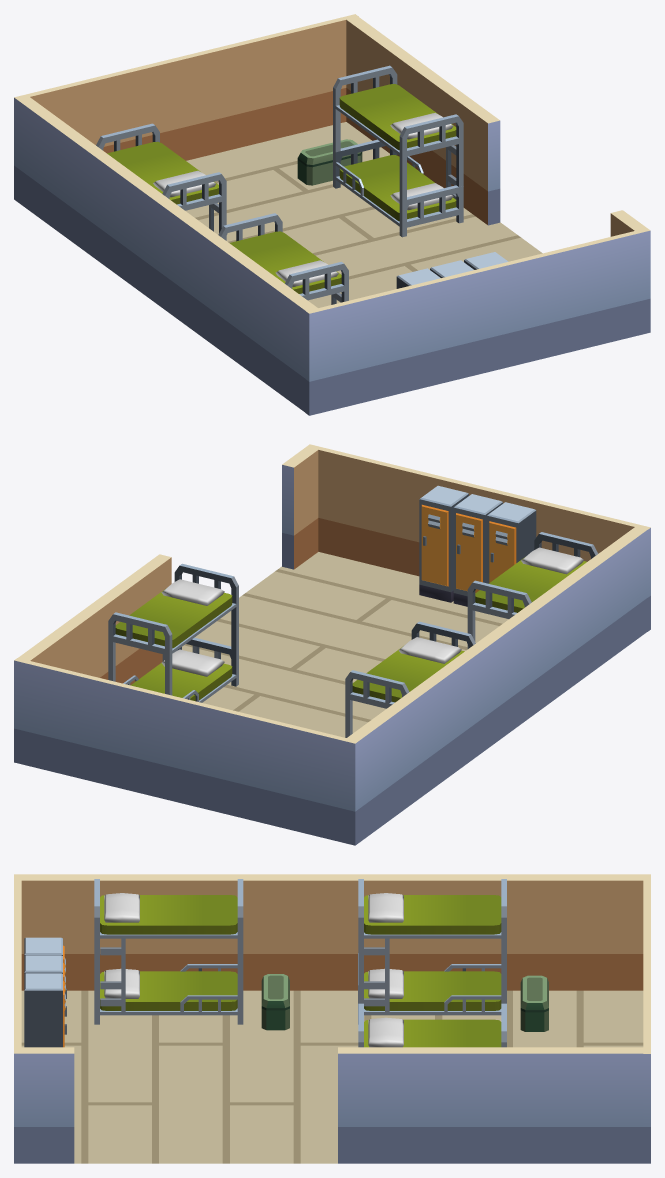
File: Barrack_Lv2_b_Left.fbx
3 renders of one model, top to bottom at view 1: azimuth 30°, elevation 25°; view 2: azimuth 150°, elevation 25°; view 3: azimuth 270°, elevation 25°, orthographic. The views are drawn at different scales.
Visible parts, largest first — view 1: Barrack_Lv2_b_Left8, Barrack_Lv2_b_Left15, Barrack_Lv2_b_Left12, Barrack_Lv2_b_Left11, Barrack_Lv2_b_Left4, Barrack_Lv2_b_Left6, Barrack_Lv2_b_Left10, Barrack_Lv2_b_Left1, Barrack_Lv2_b_Left17, Barrack_Lv2_b_Left5; view 2: Barrack_Lv2_b_Left12, Barrack_Lv2_b_Left15, Barrack_Lv2_b_Left11, Barrack_Lv2_b_Left8, Barrack_Lv2_b_Left4, Barrack_Lv2_b_Left6, Barrack_Lv2_b_Left10, Barrack_Lv2_b_Left1, Barrack_Lv2_b_Left17, Barrack_Lv2_b_Left16, Barrack_Lv2_b_Left9, Barrack_Lv2_b_Left7; view 3: Barrack_Lv2_b_Left11, Barrack_Lv2_b_Left15, Barrack_Lv2_b_Left6, Barrack_Lv2_b_Left1, Barrack_Lv2_b_Left10, Barrack_Lv2_b_Left17, Barrack_Lv2_b_Left4, Barrack_Lv2_b_Left16, Barrack_Lv2_b_Left12, Barrack_Lv2_b_Left13, Barrack_Lv2_b_Left14, Barrack_Lv2_b_Left8 (+2 smaller).
Boxes of the visible parts, x1=… form: Barrack_Lv2_b_Left8: x1=305, y1=231, x2=638, y2=415; Barrack_Lv2_b_Left15: x1=14, y1=94, x2=321, y2=412; Barrack_Lv2_b_Left12: x1=26, y1=14, x2=358, y2=160; Barrack_Lv2_b_Left11: x1=185, y1=122, x2=542, y2=307; Barrack_Lv2_b_Left4: x1=333, y1=65, x2=463, y2=237; Barrack_Lv2_b_Left6: x1=343, y1=14, x2=500, y2=225; Barrack_Lv2_b_Left10: x1=96, y1=123, x2=226, y2=240; Barrack_Lv2_b_Left1: x1=218, y1=213, x2=348, y2=304; Barrack_Lv2_b_Left17: x1=610, y1=210, x2=650, y2=335; Barrack_Lv2_b_Left5: x1=297, y1=139, x2=362, y2=185; Barrack_Lv2_b_Left12: x1=14, y1=658, x2=358, y2=845; Barrack_Lv2_b_Left15: x1=343, y1=524, x2=650, y2=845; Barrack_Lv2_b_Left11: x1=182, y1=552, x2=508, y2=737; Barrack_Lv2_b_Left8: x1=314, y1=447, x2=650, y2=631; Barrack_Lv2_b_Left4: x1=108, y1=563, x2=238, y2=702; Barrack_Lv2_b_Left6: x1=14, y1=554, x2=171, y2=685; Barrack_Lv2_b_Left10: x1=345, y1=621, x2=475, y2=737; Barrack_Lv2_b_Left1: x1=467, y1=532, x2=598, y2=648; Barrack_Lv2_b_Left17: x1=282, y1=444, x2=321, y2=569; Barrack_Lv2_b_Left16: x1=419, y1=485, x2=468, y2=602; Barrack_Lv2_b_Left9: x1=453, y1=494, x2=502, y2=606; Barrack_Lv2_b_Left7: x1=487, y1=502, x2=536, y2=583; Barrack_Lv2_b_Left11: x1=21, y1=990, x2=643, y2=1163; Barrack_Lv2_b_Left15: x1=14, y1=874, x2=650, y2=990; Barrack_Lv2_b_Left6: x1=338, y1=1047, x2=650, y2=1163; Barrack_Lv2_b_Left1: x1=94, y1=879, x2=243, y2=1024; Barrack_Lv2_b_Left10: x1=358, y1=879, x2=506, y2=1024; Barrack_Lv2_b_Left17: x1=14, y1=1047, x2=74, y2=1163; Barrack_Lv2_b_Left4: x1=358, y1=1003, x2=506, y2=1047; Barrack_Lv2_b_Left16: x1=24, y1=973, x2=66, y2=1047; Barrack_Lv2_b_Left12: x1=643, y1=880, x2=650, y2=1163; Barrack_Lv2_b_Left13: x1=261, y1=974, x2=289, y2=1030; Barrack_Lv2_b_Left14: x1=520, y1=975, x2=548, y2=1031; Barrack_Lv2_b_Left8: x1=14, y1=880, x2=21, y2=1053.
Bounding box in the file's own units: 701 × 212 × 1050.
